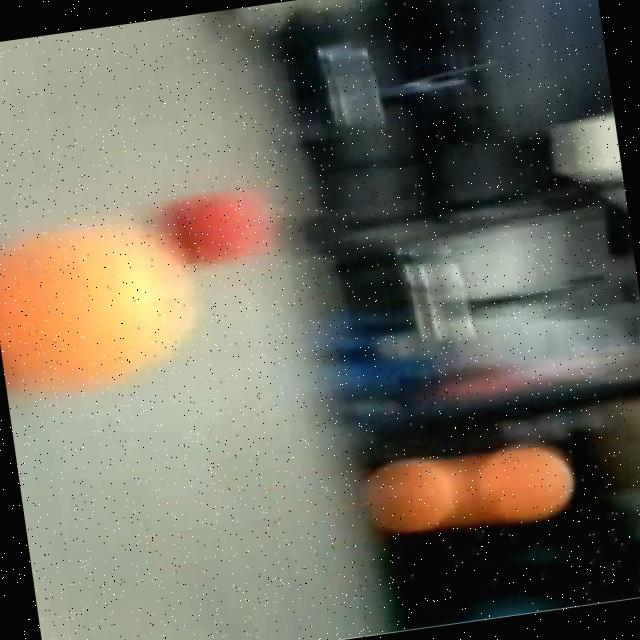ping-pong-ball: (0, 211, 206, 401), (461, 422, 577, 534), (161, 180, 275, 276), (355, 448, 462, 548)
